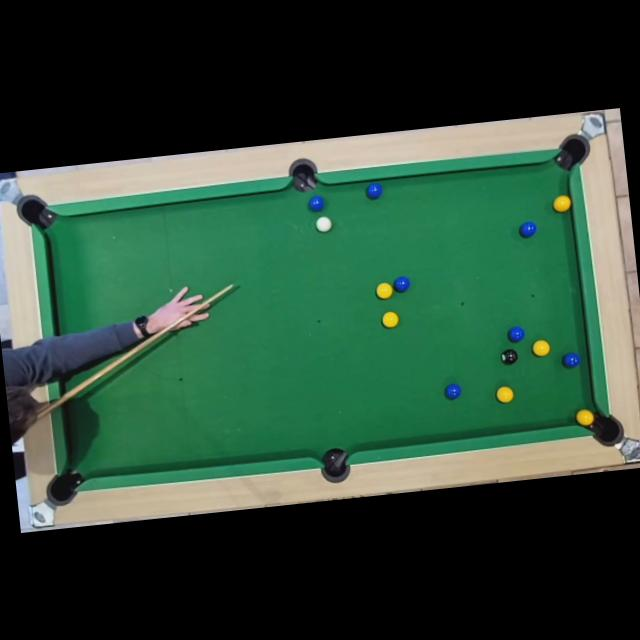Ball: (530, 338, 552, 358), (442, 382, 462, 400), (380, 310, 400, 328), (495, 385, 515, 403), (392, 276, 411, 294), (366, 182, 384, 200), (518, 220, 536, 238), (553, 194, 571, 212), (562, 351, 580, 369), (374, 282, 392, 300), (576, 409, 594, 427), (500, 348, 518, 365), (506, 325, 524, 342), (308, 195, 326, 212), (316, 215, 332, 232)
